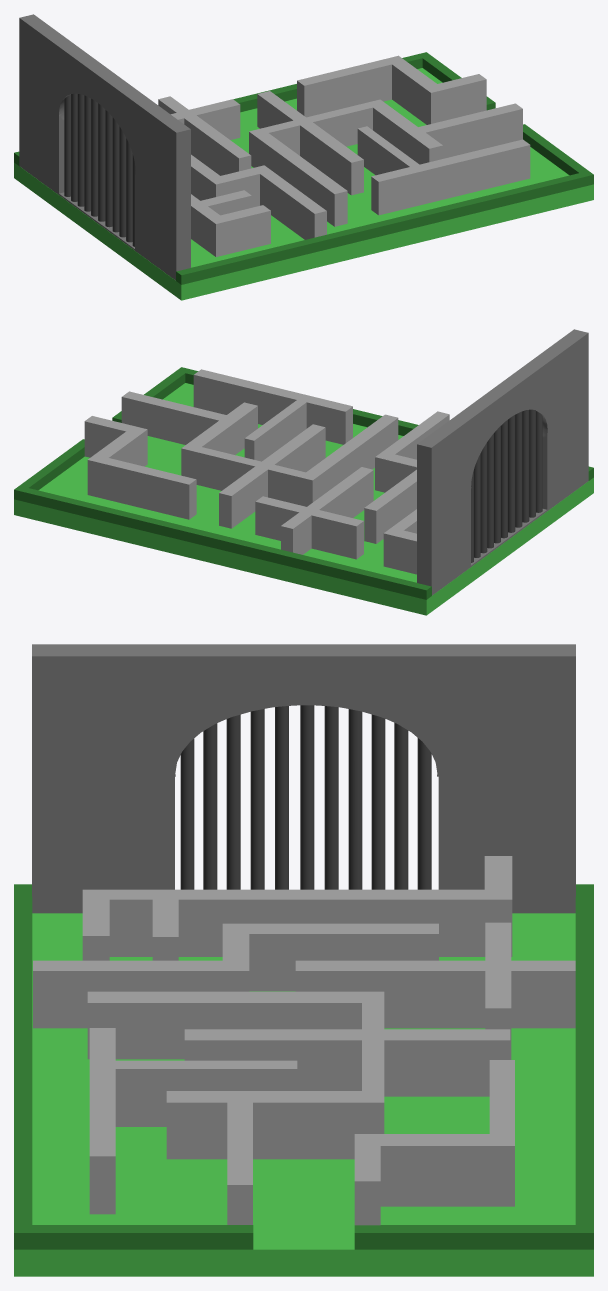
3 renders of one model, top to bottom at view 1: azimuth 30°, elevation 25°; view 2: azimuth 150°, elevation 25°; view 3: azimuth 270°, elevation 25°, orthographic. The views are drawn at different scales.
Parts seen in each view (by area): view 1: pCube7, pCube6, pCube9, pCube10, pasted__pCube11 (×2), pCube8, pasted__pasted__pasted__pCylinder2 (×5), pCube11, pasted__pasted__pCylinder2 (×4), pasted__pasted__pCube11, pasted__pCylinder2; view 2: pCube7, pCube6, pCube9, pasted__pCube11 (×2), pCube8, pCube10, pasted__pasted__pasted__pCylinder2 (×5), pasted__pasted__pCylinder2 (×4), pasted__pasted__pCube11, pCube11, pasted__pCylinder2; view 3: pCube7, pCube6, pCube9, pasted__pCube11 (×2), pasted__pasted__pasted__pCylinder2 (×6), pCube8, pCube10, pasted__pasted__pCylinder2 (×4), pCube11, pasted__pasted__pCube11, pasted__pCylinder2.
Part boxes in pixels (x1,y1,x2,y2): pCube7: (14,52,593,300); pCube6: (19,14,190,280); pCube9: (249,91,522,226); pCube10: (357,126,530,215); pasted__pCube11 (×2): (158,96,270,256); pCube8: (297,55,486,124); pasted__pasted__pasted__pCylinder2 (×5): (64,94,125,237); pCube11: (208,165,326,239); pasted__pasted__pCylinder2 (×4): (84,95,132,242); pasted__pasted__pCube11: (191,154,263,200); pasted__pCylinder2: (71,93,77,201); pCube7: (14,367,593,615); pCube6: (417,329,588,595); pCube9: (121,391,398,528); pasted__pCube11 (×2): (255,467,416,574); pCube8: (84,416,196,519); pCube10: (193,369,352,461); pasted__pasted__pasted__pCylinder2 (×5): (480,410,542,553); pasted__pasted__pCylinder2 (×4): (487,409,535,548); pasted__pasted__pCube11: (364,457,416,543); pCube11: (376,411,449,466); pasted__pCylinder2: (474,454,480,557); pCube7: (14,884,593,1276); pCube6: (32,644,575,913); pCube9: (87,991,510,1224); pasted__pCube11 (×2): (82,856,575,1059); pasted__pasted__pasted__pCylinder2 (×6): (180,706,431,889); pCube8: (354,1060,514,1225); pCube10: (89,1028,297,1214); pasted__pasted__pCylinder2 (×4): (203,705,362,889); pCube11: (33,923,248,1028); pasted__pasted__pCube11: (223,923,438,991); pasted__pCylinder2: (394,723,408,889).
Bounding box in the file's own units: 22.4 × 8.51 × 15.75.
